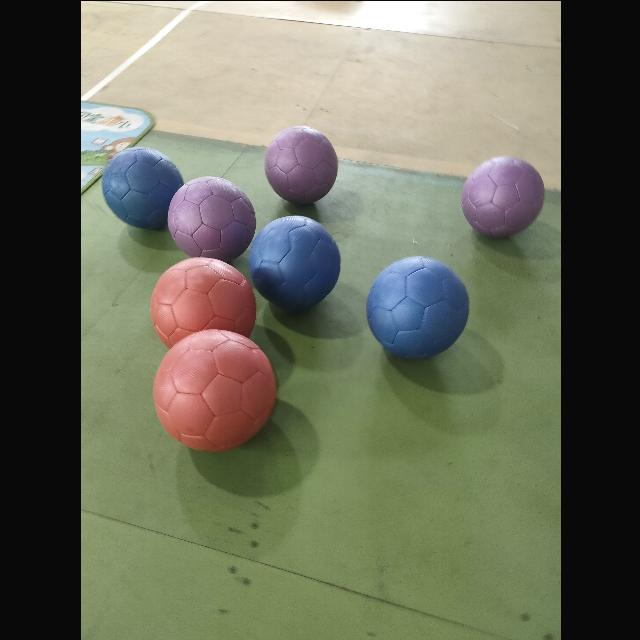B: (366, 256, 468, 358), (248, 215, 339, 308), (101, 146, 183, 228)
P: (167, 176, 255, 260), (461, 155, 544, 235), (264, 125, 336, 203)
R: (153, 328, 275, 449), (150, 254, 250, 356)
